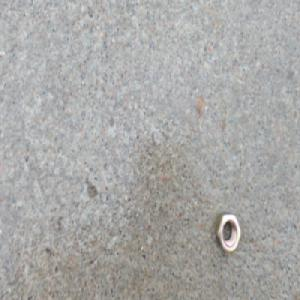Nut: (214, 211, 240, 254)
